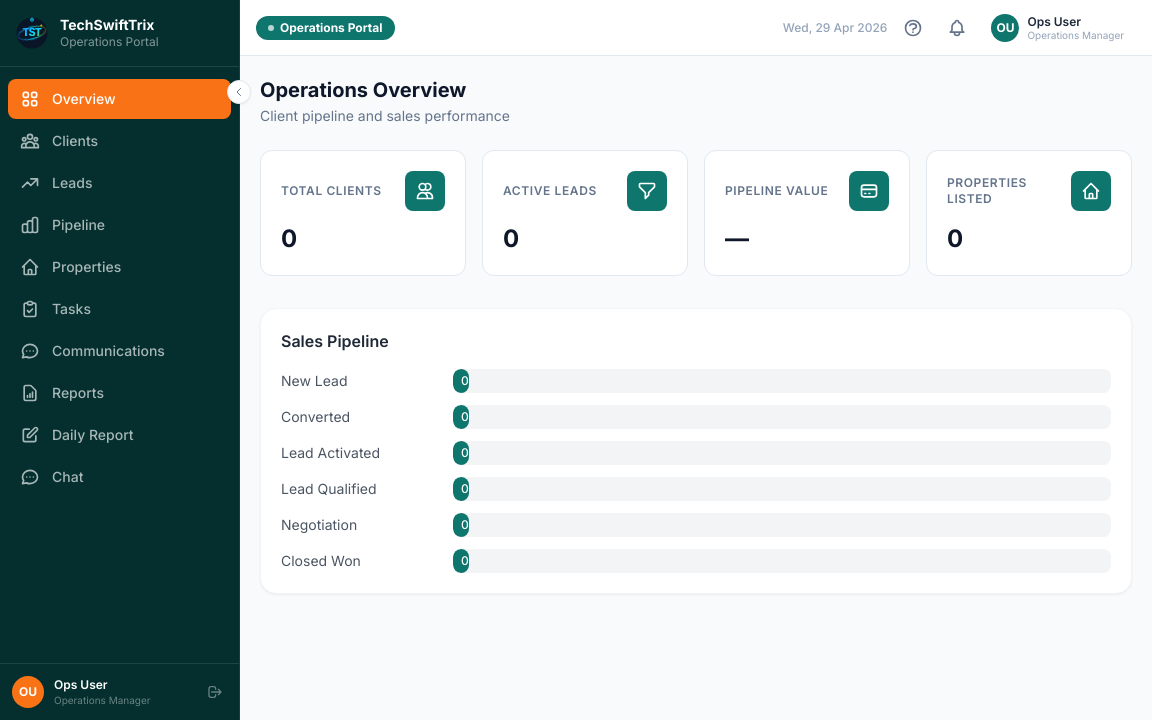
Test: OperationsPortal › navigates to leads section
The image size is (1152, 720).
What coordinates should you click on to do the following:
click the button "Leads"
I would click on:
 (120, 182)
Its box is [8,162,231,202].
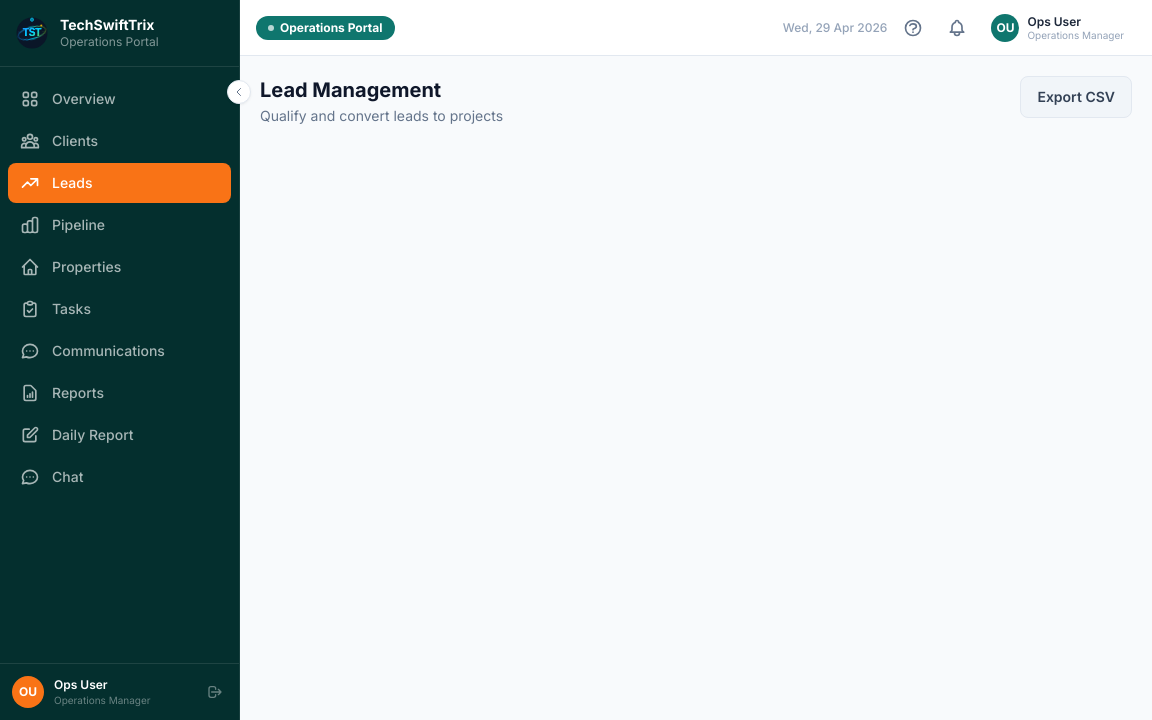
expect the heading "Lead Management" is shown: met, box [260,78,441,102]
